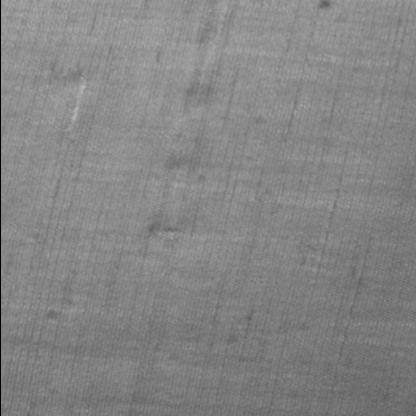thread error: (138, 0, 236, 236), (56, 69, 88, 135)
